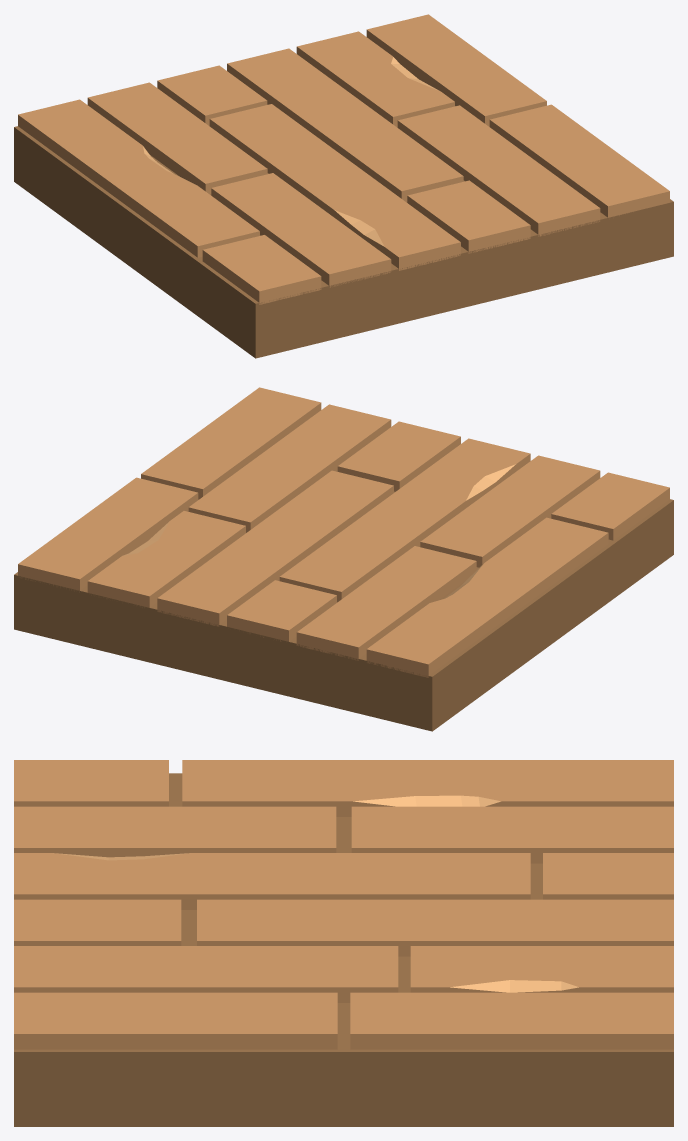
File: Floor Wood.glb
3 renders of one model, top to bottom at view 1: azimuth 30°, elevation 25°; view 2: azimuth 150°, elevation 25°; view 3: azimuth 270°, elevation 25°, orthographic. The views are drawn at different scales.
Visible parts, largest first — view 1: Floor_Wood; view 2: Floor_Wood; view 3: Floor_Wood.
Boxes of the visible parts, x1=… form: Floor_Wood: x1=14, y1=14, x2=673, y2=358; Floor_Wood: x1=14, y1=387, x2=673, y2=731; Floor_Wood: x1=14, y1=760, x2=673, y2=1126.
Size of the model in its own units: 4 by 0.6051 by 4.
1 material, 1 textured.
